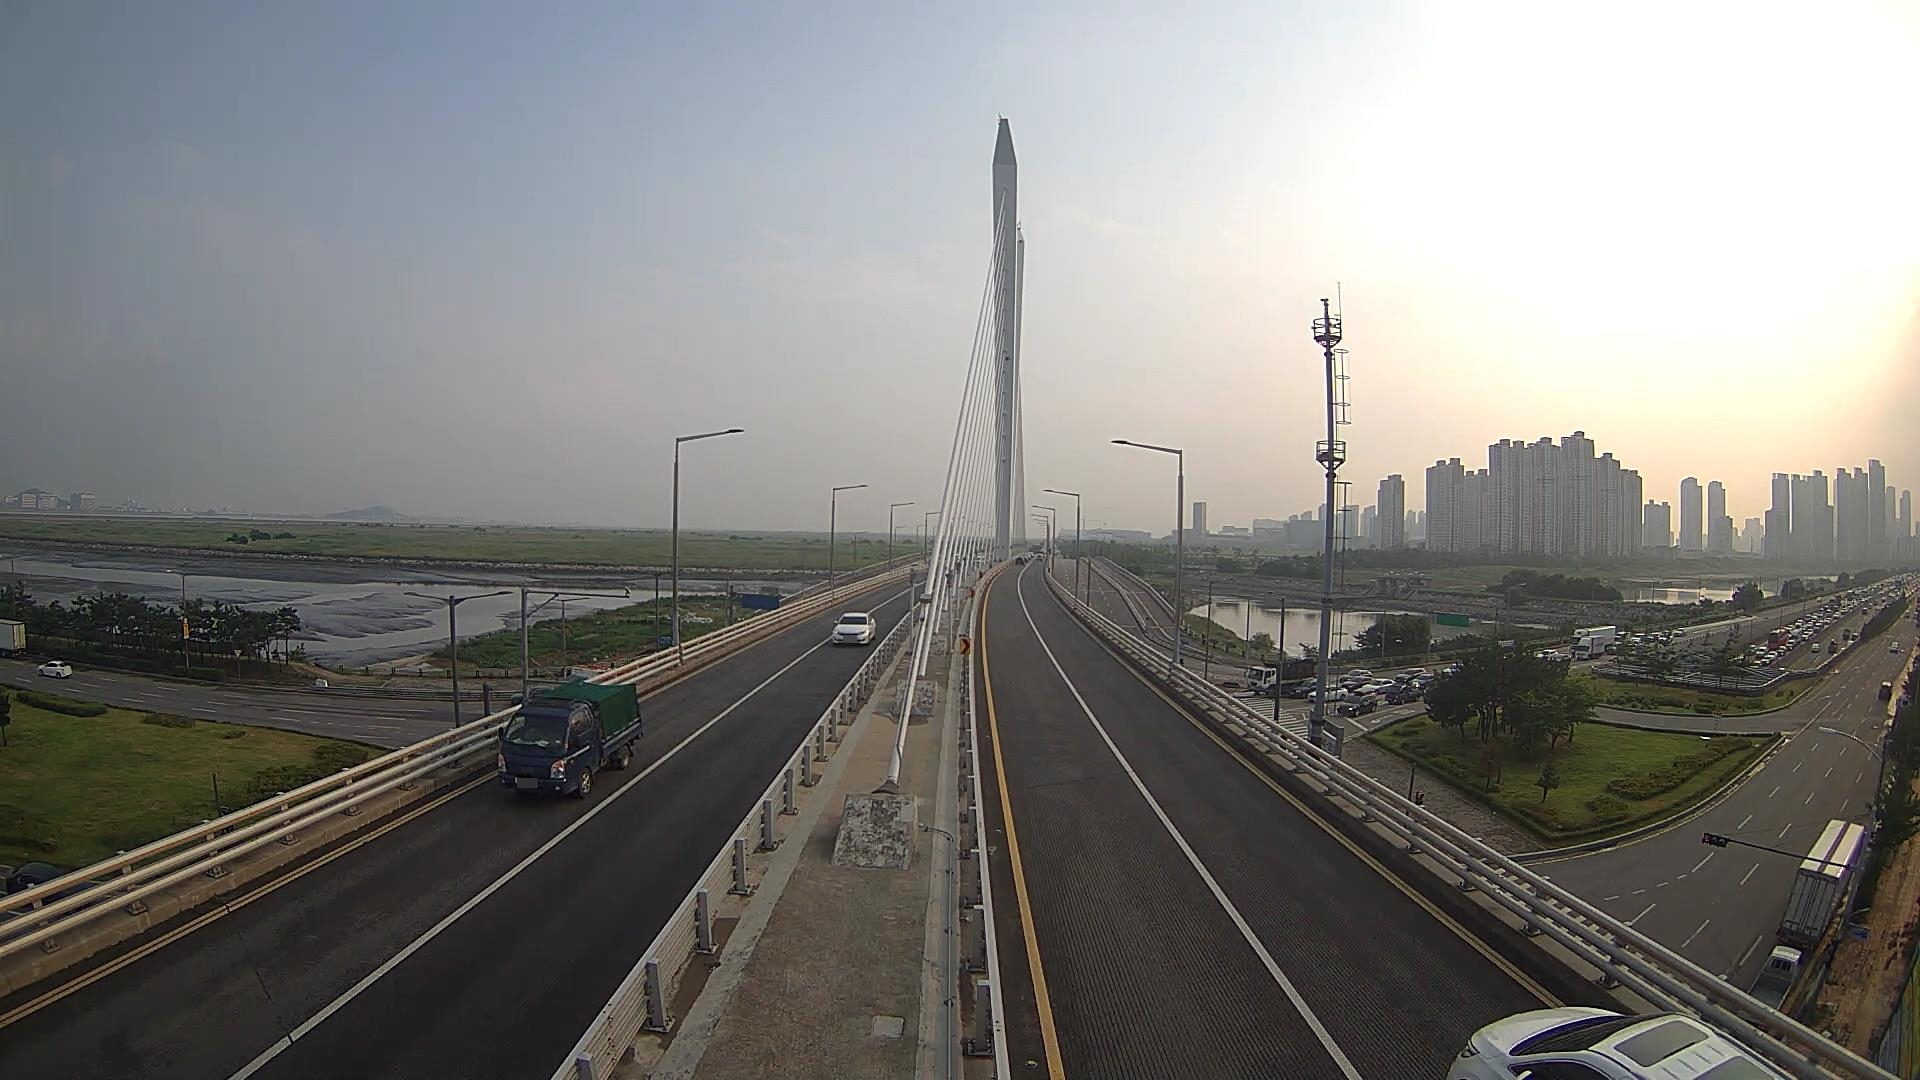정상차량: (498, 678, 643, 800)
